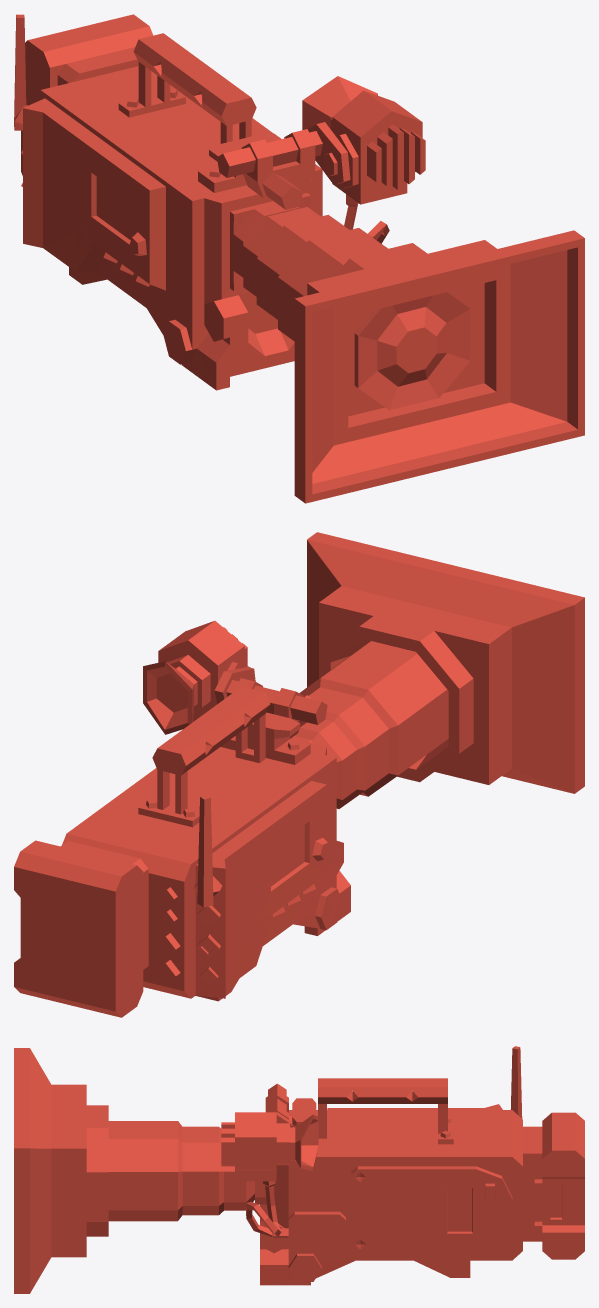
The model's file is SM_Camera_Movie.fbx.
3 renders of one model, top to bottom at view 1: azimuth 30°, elevation 25°; view 2: azimuth 150°, elevation 25°; view 3: azimuth 270°, elevation 25°, orthographic. The views are drawn at different scales.
Visible parts, largest first — view 1: SM_Camera_Movie; view 2: SM_Camera_Movie; view 3: SM_Camera_Movie.
Part boxes in pixels (x1,y1,x2,y2): SM_Camera_Movie: (14, 14, 584, 503); SM_Camera_Movie: (14, 532, 584, 1017); SM_Camera_Movie: (14, 1046, 584, 1293).
Bounding box in the file's own units: 66.43 × 27.69 × 23.96.
